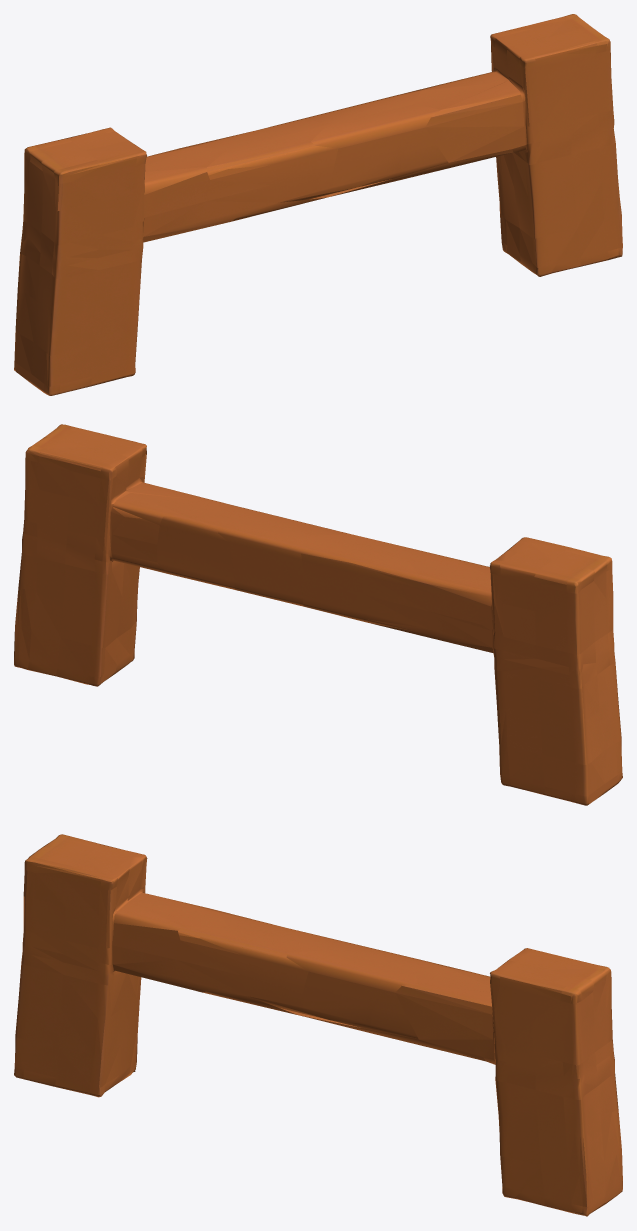
The model's file is railing.glb.
3 renders of one model, top to bottom at view 1: azimuth 30°, elevation 25°; view 2: azimuth 150°, elevation 25°; view 3: azimuth 330°, elevation 25°, orthographic.
Bounding box in the file's own units: 2.7 × 1 × 0.3.
1 material, 1 textured.
